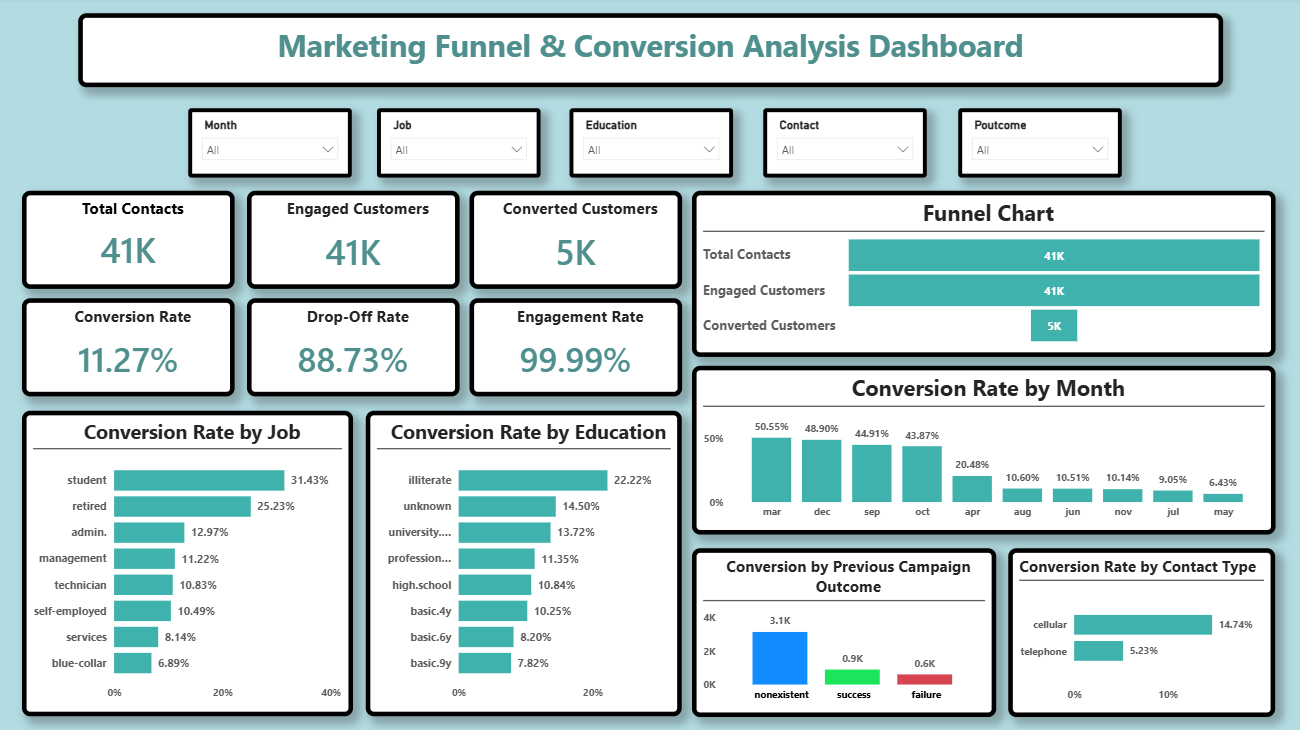

What the dashboard file says about the page in this screenshot:
{"tool":"powerbi","page":{"name":"Marketing Funnel & Conversion Dashboard","canvas":[1600,900],"ordinal":0},"visuals":[{"type":"cardVisual","title":"Total Contacts","fields":{"Data":["Measures(DAX).Total Contacts"]},"box":[30,236.7,260,120],"z":0},{"type":"cardVisual","title":"Engaged Customers","fields":{"Data":["Measures(DAX).Engaged Customers"]},"box":[305,236.7,260,120],"z":1000},{"type":"cardVisual","title":"Converted Customers","fields":{"Data":["Measures(DAX).Converted Customers"]},"box":[578.3,236.7,260,120],"z":2000},{"type":"cardVisual","title":"Engagement Rate","fields":{"Data":["Measures(DAX).Engagement Rate"]},"box":[578.3,368.3,260,120],"z":3000},{"type":"cardVisual","title":"Conversion Rate","fields":{"Data":["Measures(DAX).Conversion Rate"]},"box":[30,368.3,260,120],"z":4000},{"type":"cardVisual","title":"Drop-Off Rate","fields":{"Data":["Measures(DAX).Drop-Off Rate"]},"box":[305,368.3,260,120],"z":5000},{"type":"funnel","title":"Funnel Chart","fields":{"Y":["Measures(DAX).Total Contacts","Measures(DAX).Engaged Customers","Measures(DAX).Converted Customers"]},"box":[850,236.7,713.3,203.3],"z":6000},{"type":"clusteredBarChart","title":"Conversion Rate by Contact Type","fields":{"Category":["bank-additional-full.contact"],"Y":["Measures(DAX).Conversion Rate"]},"box":[1236.7,673.3,326.7,206.7],"z":7000},{"type":"clusteredColumnChart","title":"Conversion Rate by Month","fields":{"Category":["bank-additional-full.month"],"Y":["Measures(DAX).Conversion Rate"]},"box":[850,451.7,713.3,206.7],"z":8000},{"type":"clusteredBarChart","title":"Conversion Rate by Job","fields":{"Category":["bank-additional-full.job"],"Y":["Measures(DAX).Conversion Rate"]},"box":[30,506.7,405,373.3],"z":9000},{"type":"clusteredBarChart","title":"Conversion Rate by Education","fields":{"Category":["bank-additional-full.education"],"Y":["Measures(DAX).Conversion Rate"]},"box":[451.7,506.7,386.7,373.3],"z":10000},{"type":"clusteredColumnChart","title":"Conversion by Previous Campaign Outcome","fields":{"Y":["Measures(DAX).Converted Customers"],"Category":["bank-additional-full.poutcome"]},"box":[850,673.3,371.7,206.7],"z":11000},{"type":"slicer","fields":{"Values":["bank-additional-full.month"]},"box":[233.3,136.7,200,85],"z":12000},{"type":"slicer","fields":{"Values":["bank-additional-full.job"]},"box":[465,136.7,200,85],"z":13000},{"type":"slicer","fields":{"Values":["bank-additional-full.contact"]},"box":[936.7,136.7,200,85],"z":14000},{"type":"slicer","fields":{"Values":["bank-additional-full.education"]},"box":[700,136.7,200,85],"z":15000},{"type":"slicer","fields":{"Values":["bank-additional-full.poutcome"]},"box":[1175,136.7,200,85],"z":16000},{"type":"textbox","box":[100,20,1400,90],"z":17000}]}

Visuals, with their boxes in screenshot pixels (x1, y1, x2, y2), scaled from the page's 1600x900 canvas onto the 1300x730 screenshot:
"Total Contacts" cardVisual: 24, 192, 236, 289
"Engaged Customers" cardVisual: 248, 192, 459, 289
"Converted Customers" cardVisual: 470, 192, 681, 289
"Engagement Rate" cardVisual: 470, 299, 681, 396
"Conversion Rate" cardVisual: 24, 299, 236, 396
"Drop-Off Rate" cardVisual: 248, 299, 459, 396
"Funnel Chart" funnel: 691, 192, 1270, 357
"Conversion Rate by Contact Type" clusteredBarChart: 1005, 546, 1270, 714
"Conversion Rate by Month" clusteredColumnChart: 691, 366, 1270, 534
"Conversion Rate by Job" clusteredBarChart: 24, 411, 353, 714
"Conversion Rate by Education" clusteredBarChart: 367, 411, 681, 714
"Conversion by Previous Campaign Outcome" clusteredColumnChart: 691, 546, 993, 714
slicer - bank-additional-full.month: 190, 111, 352, 180
slicer - bank-additional-full.job: 378, 111, 540, 180
slicer - bank-additional-full.contact: 761, 111, 924, 180
slicer - bank-additional-full.education: 569, 111, 731, 180
slicer - bank-additional-full.poutcome: 955, 111, 1117, 180
textbox: 81, 16, 1219, 89
